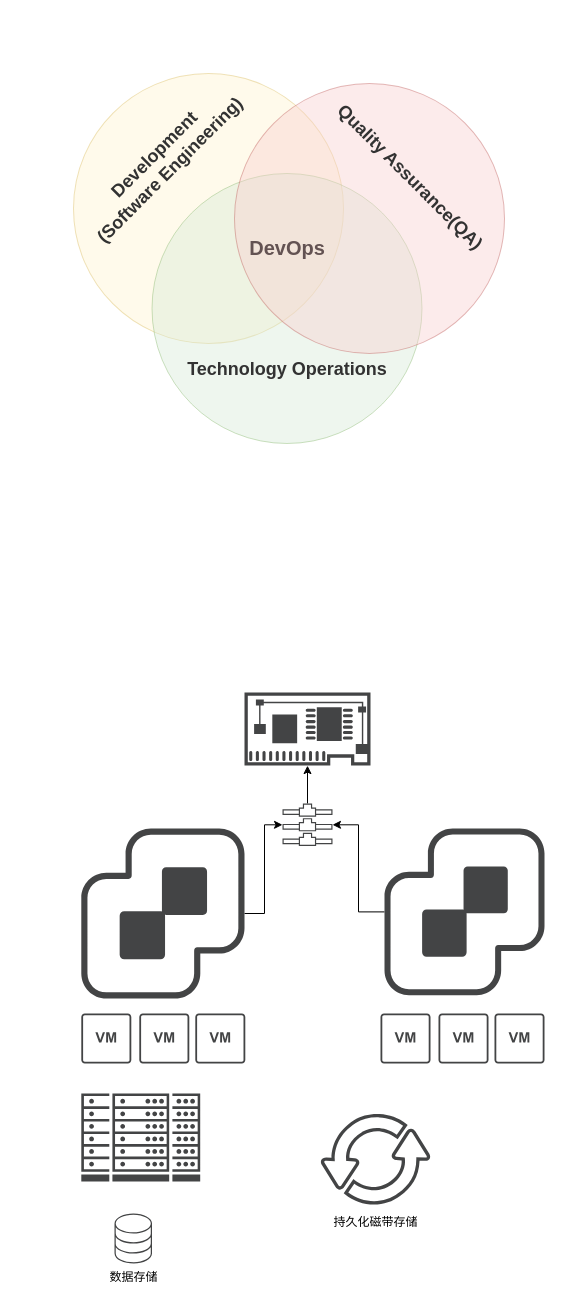
Image size: 579x1302. Some labels were removed from this diagram. The box of each missing label's shape, as (x1, y1, x2, y2) in pixels:
Oracle RAC数据库一体机: (81, 1093, 200, 1181)
RedWare负载均衡: (244, 692, 370, 765)
